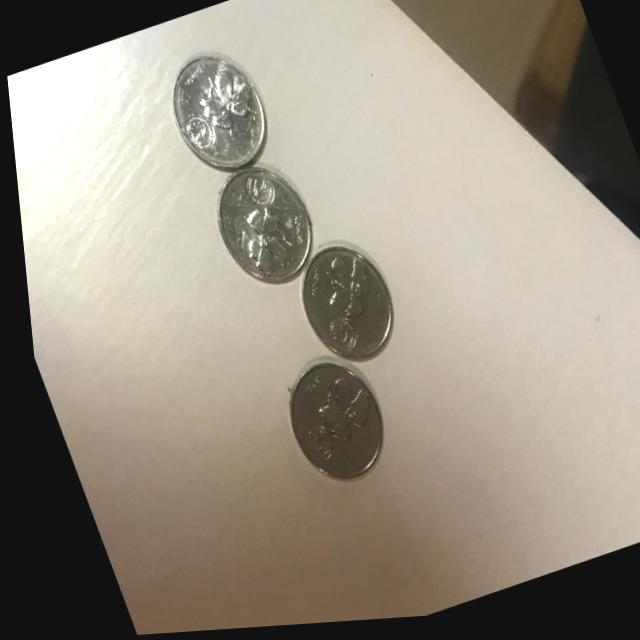25Cent_New_Back: (287, 248, 390, 362), (280, 363, 378, 474), (212, 180, 308, 286), (162, 62, 251, 160)
